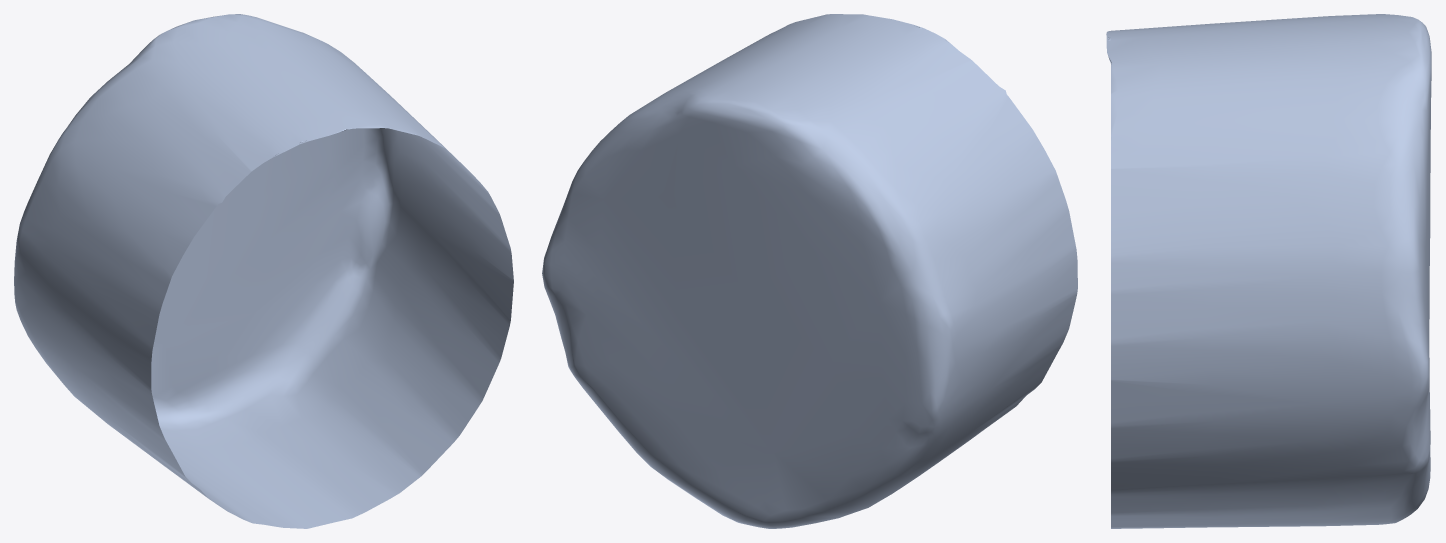
File: svc.glb
The picture shows the model from 3 angles, left to right: view 1: azimuth 30°, elevation 25°; view 2: azimuth 150°, elevation 25°; view 3: azimuth 270°, elevation 25°; orthographic projection. The views are drawn at different scales.
Visible parts, largest first — view 1: structure; view 2: structure; view 3: structure.
Boxes of the visible parts, x1=… form: structure: x1=14, y1=14, x2=513, y2=528; structure: x1=542, y1=14, x2=1077, y2=528; structure: x1=1106, y1=14, x2=1431, y2=528.
Size of the model in its own units: 22.57 by 23.02 by 14.39.
